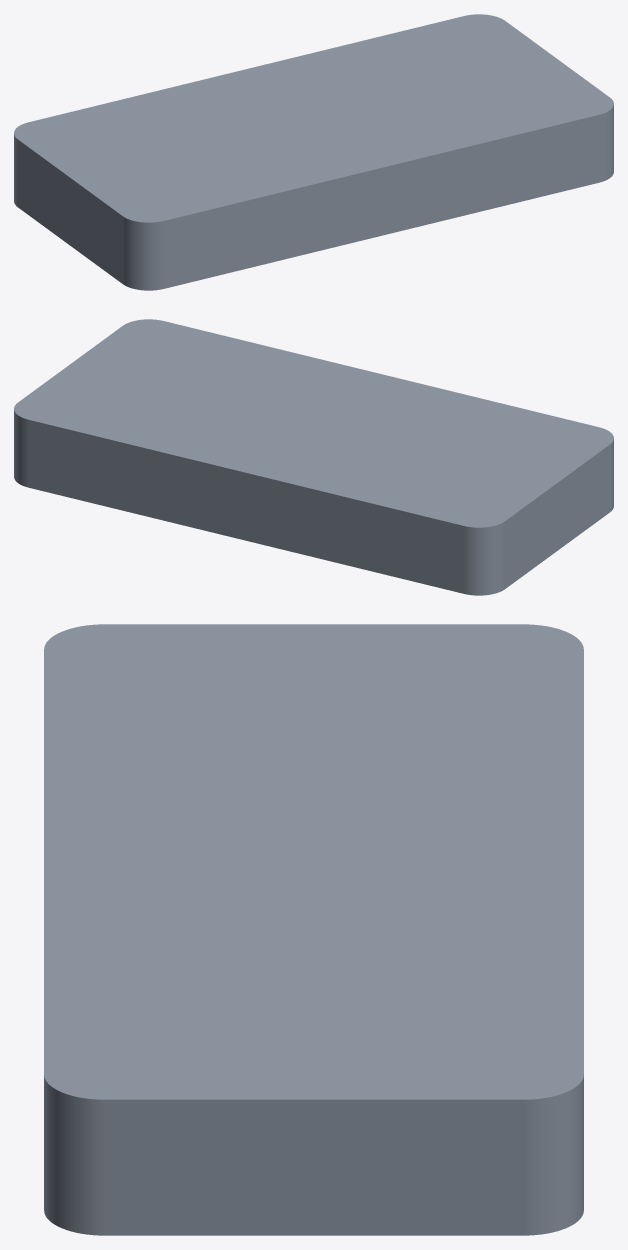
The model's file is step_01.glb.
The picture shows the model from 3 angles, top to bottom: view 1: azimuth 30°, elevation 25°; view 2: azimuth 150°, elevation 25°; view 3: azimuth 270°, elevation 25°; orthographic projection. The views are drawn at different scales.
Parts seen in each view (by area): view 1: part__base; view 2: part__base; view 3: part__base.
Part boxes in pixels (x1,y1,x2,y2): part__base: (14,14,613,290); part__base: (14,319,613,595); part__base: (44,624,583,1235).
Size of the model in its own units: 150 by 20 by 72.
